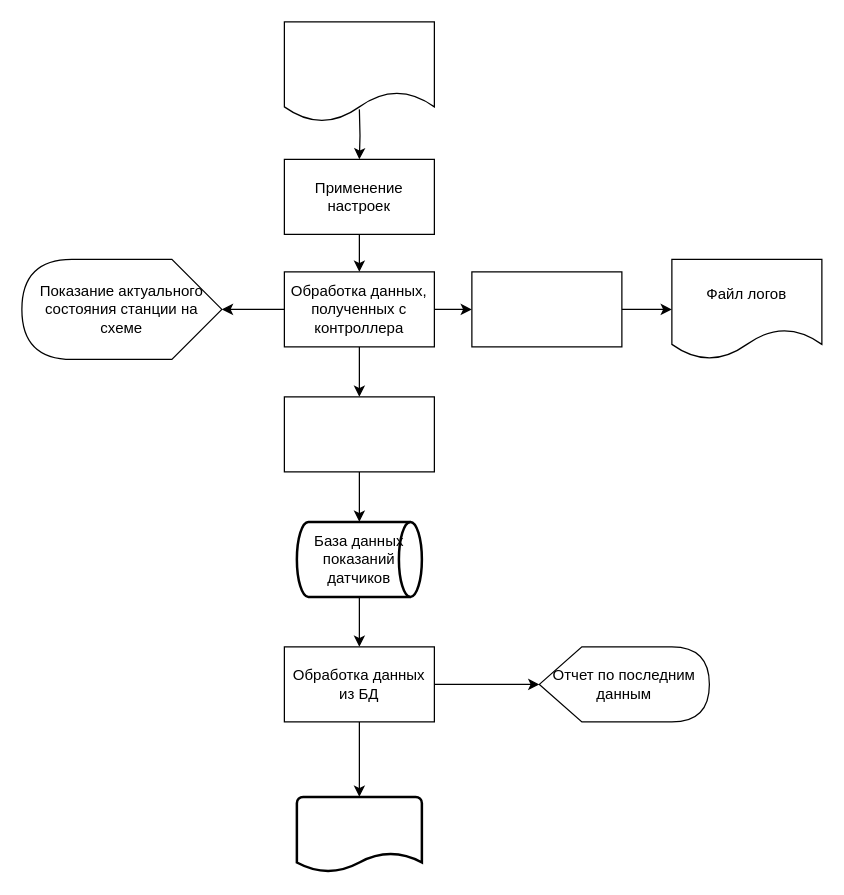
Some shapes in this 844 by 895 pixel diagram are drawn without their labels. The centre of each missing label's shape, as x and y in pixels:
"Запись новых данных в БД" belongs at point (358, 434).
"Запись новых логов" belongs at point (546, 309).
"Файл аварий на станции" belongs at point (358, 833).
"Файл настроек" belongs at point (358, 71).
